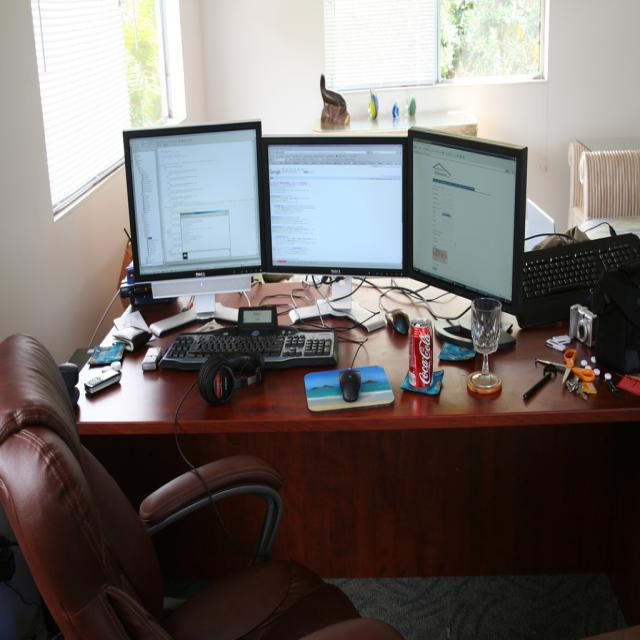chair: (1, 332, 401, 633), (568, 140, 640, 232)
desk: (79, 278, 640, 576)
keyboard: (519, 232, 640, 320), (157, 326, 336, 373)
laptop: (408, 128, 640, 331)
mouse: (338, 368, 361, 401), (384, 309, 410, 334)
tv: (122, 118, 264, 292), (406, 126, 526, 306), (260, 136, 406, 278)
